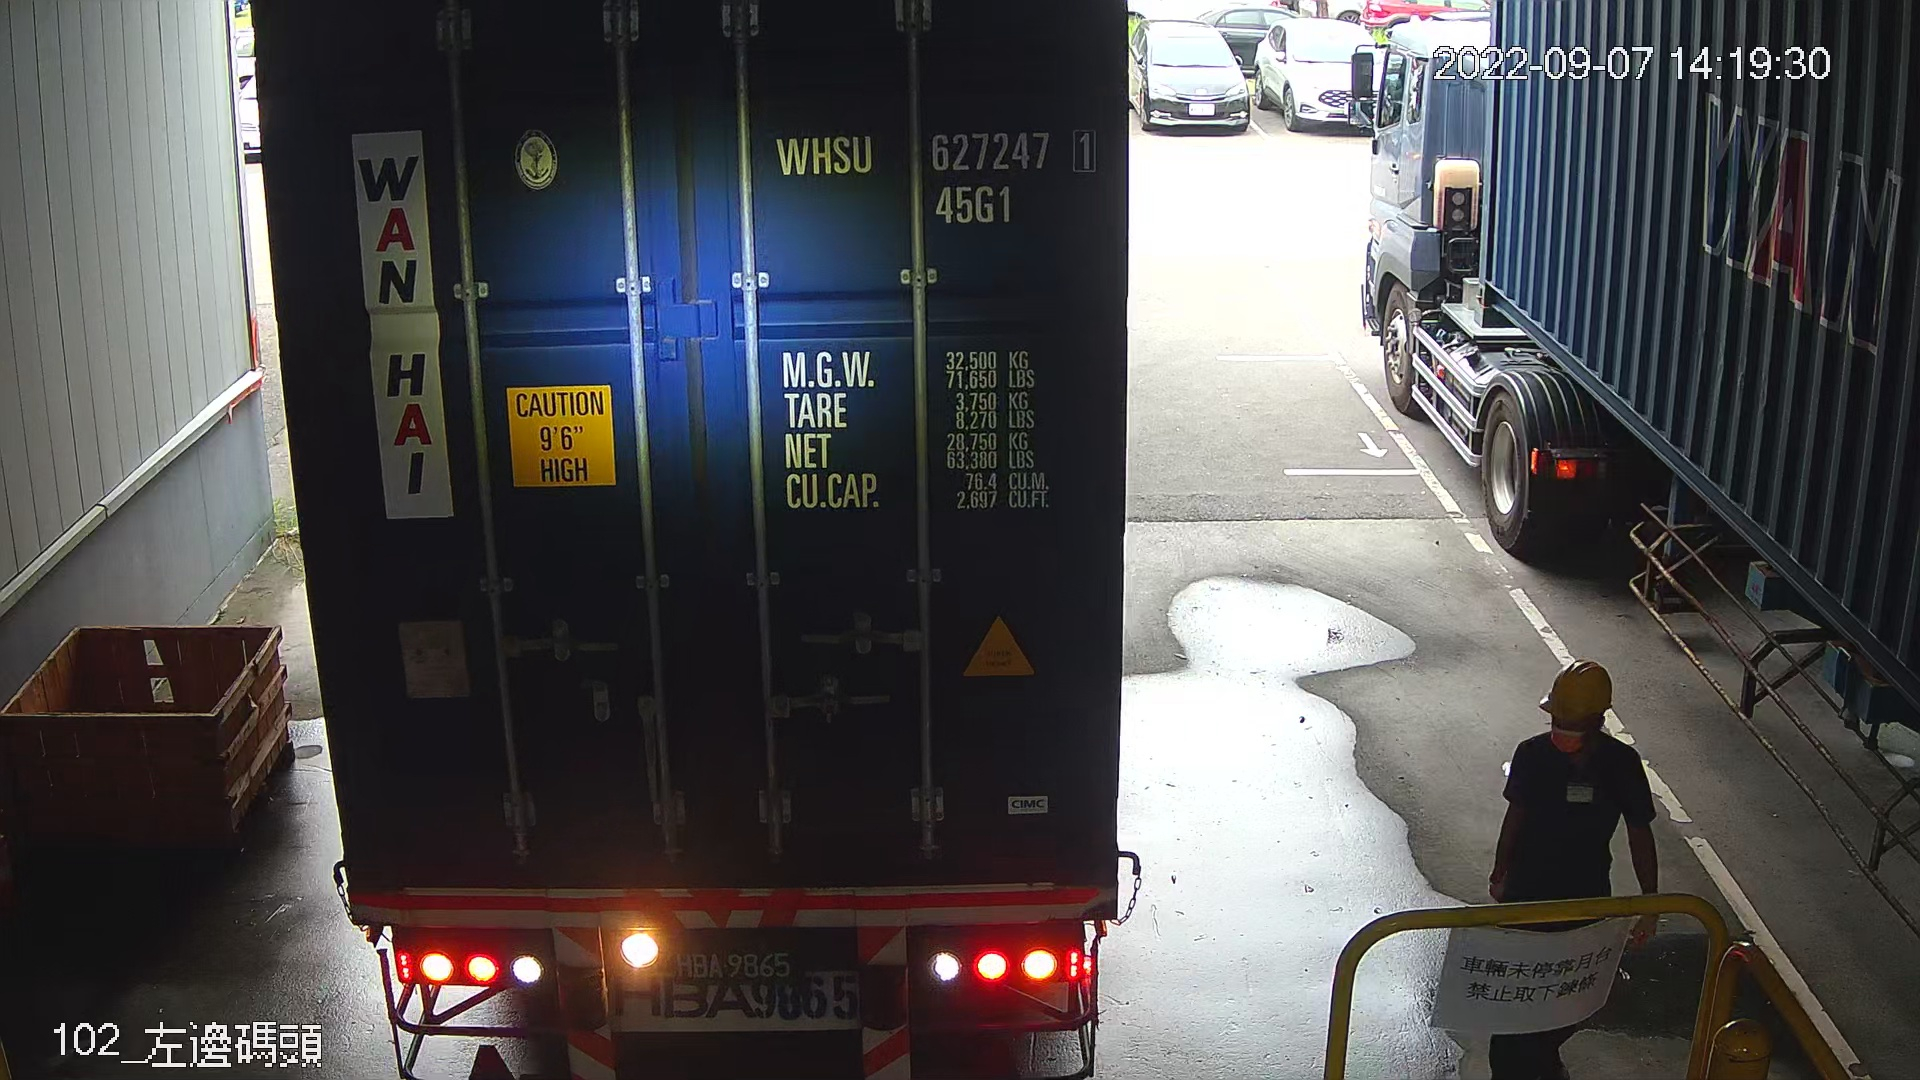container: (760, 116, 1109, 232)
